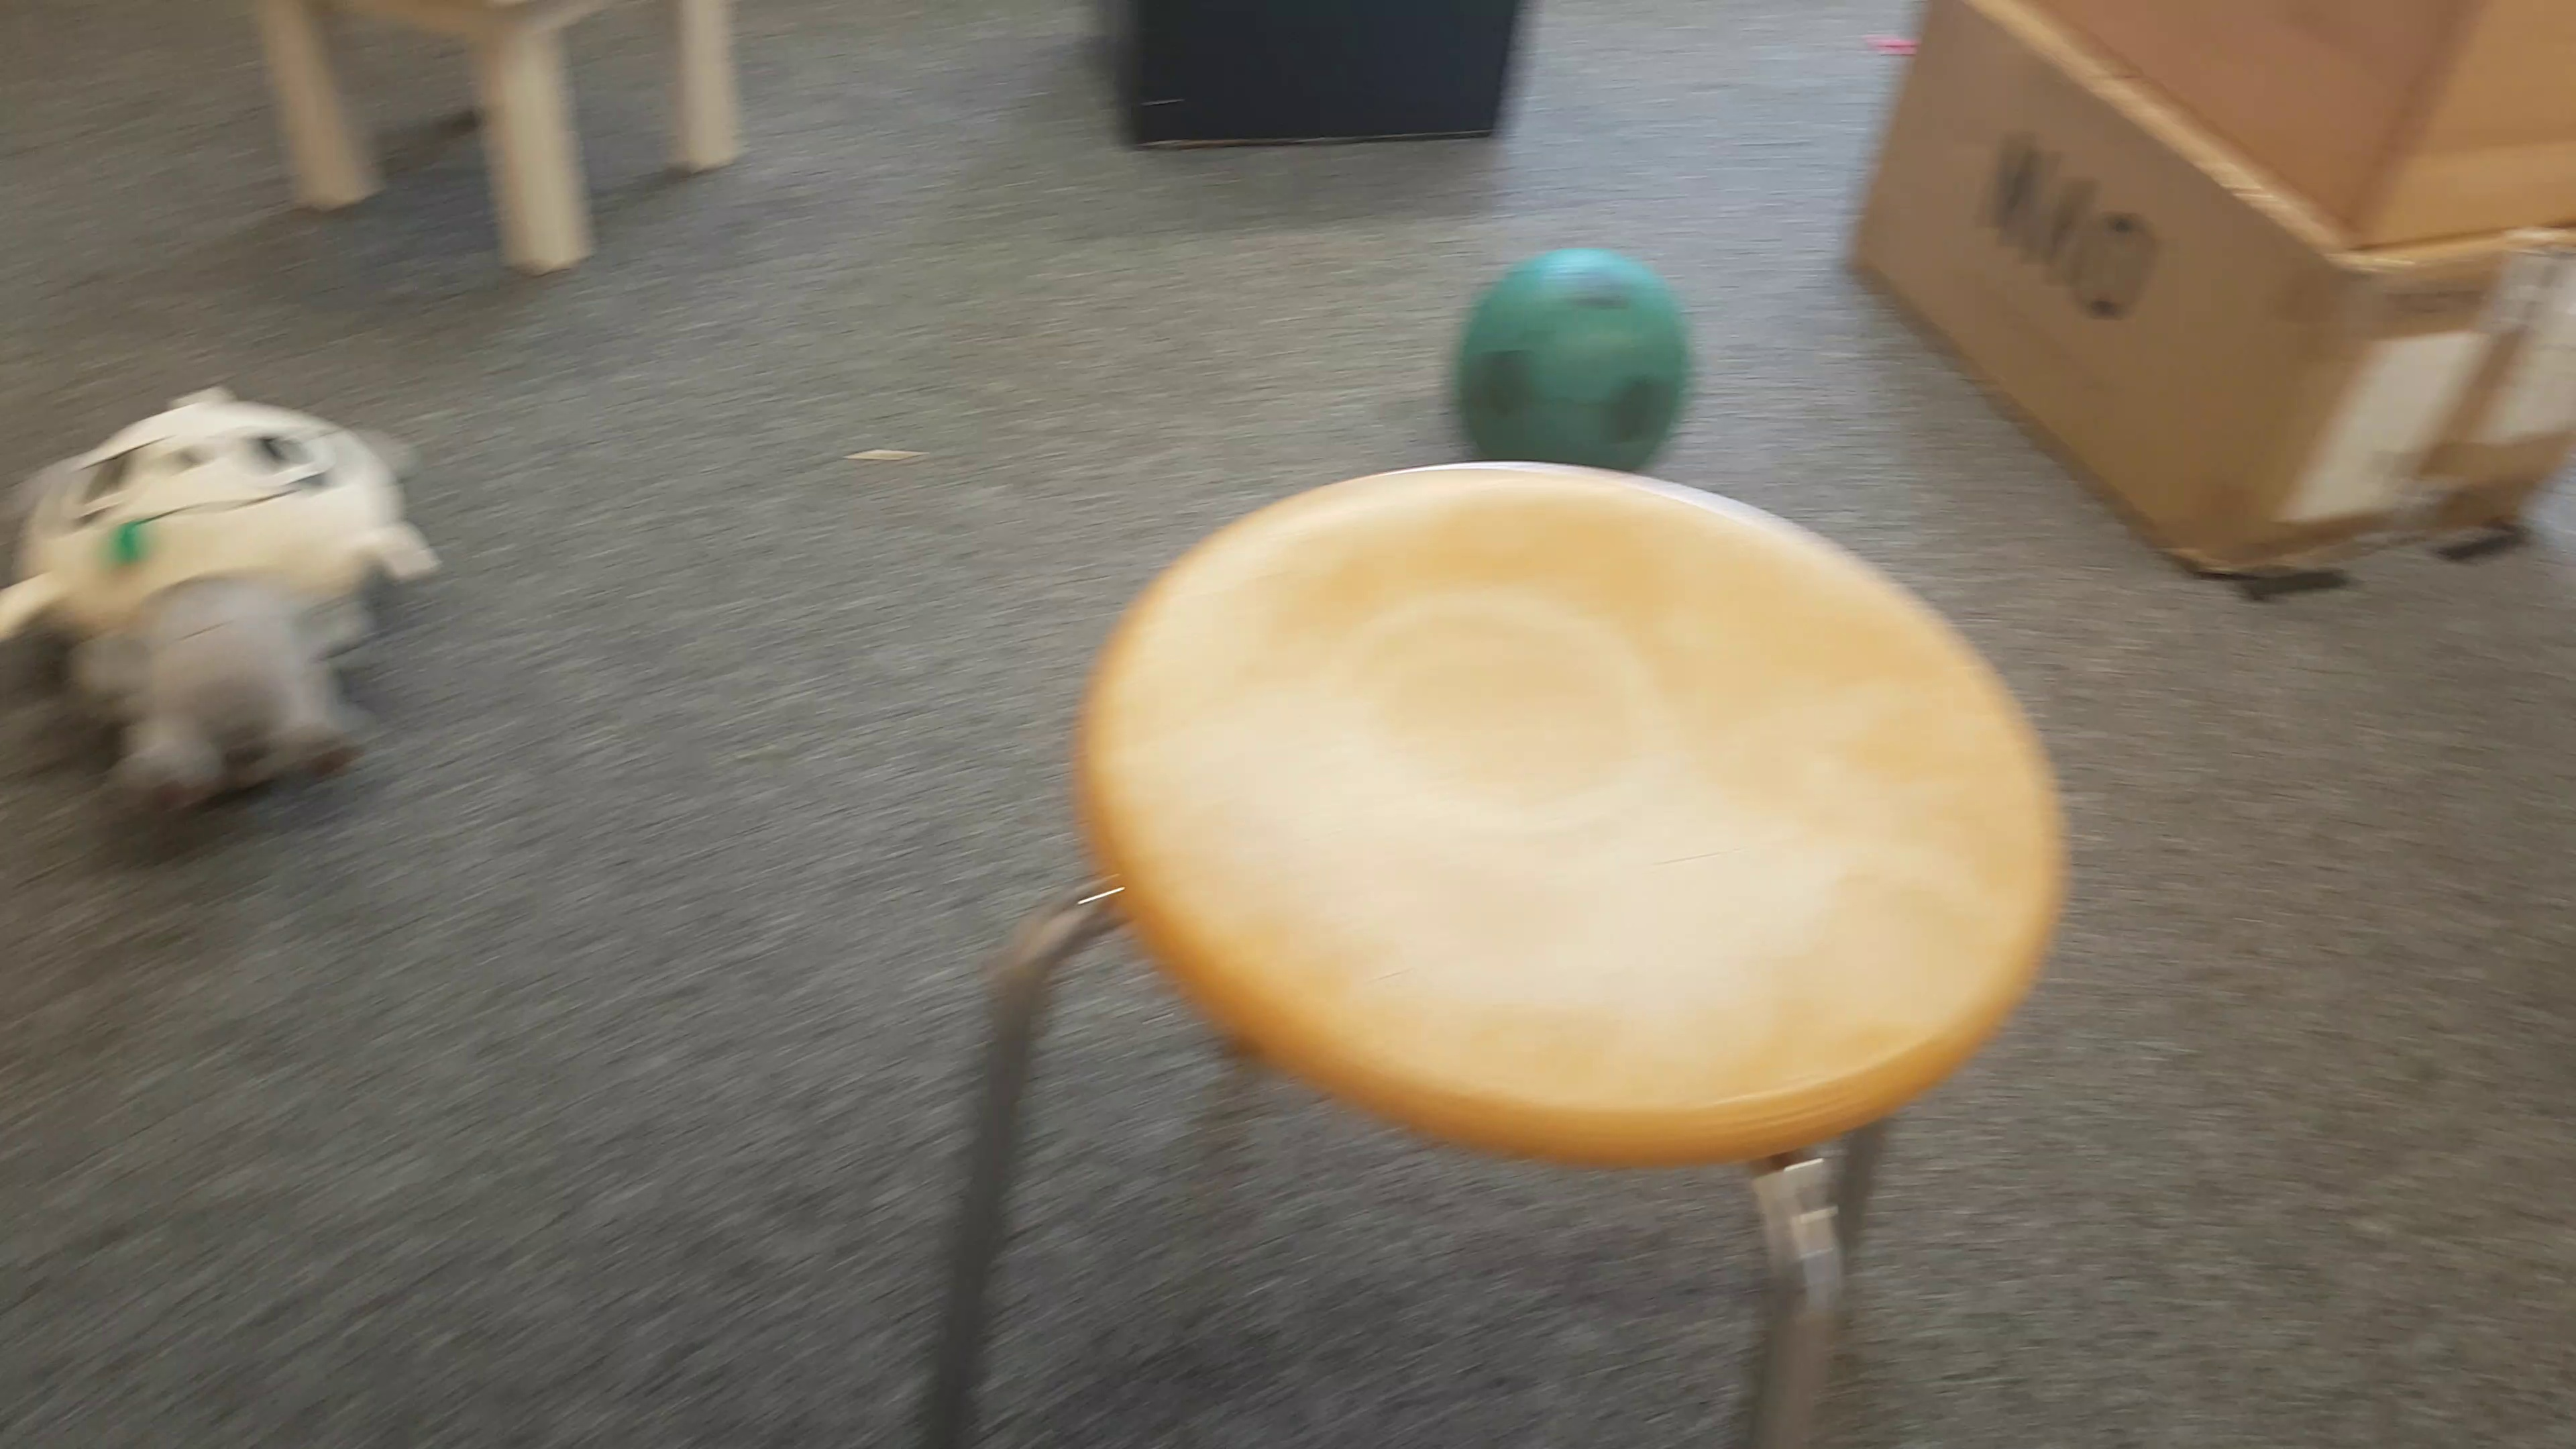grasp: (9, 387, 439, 810)
kick: (1458, 249, 1693, 464)
push: (1083, 12, 1537, 157)
